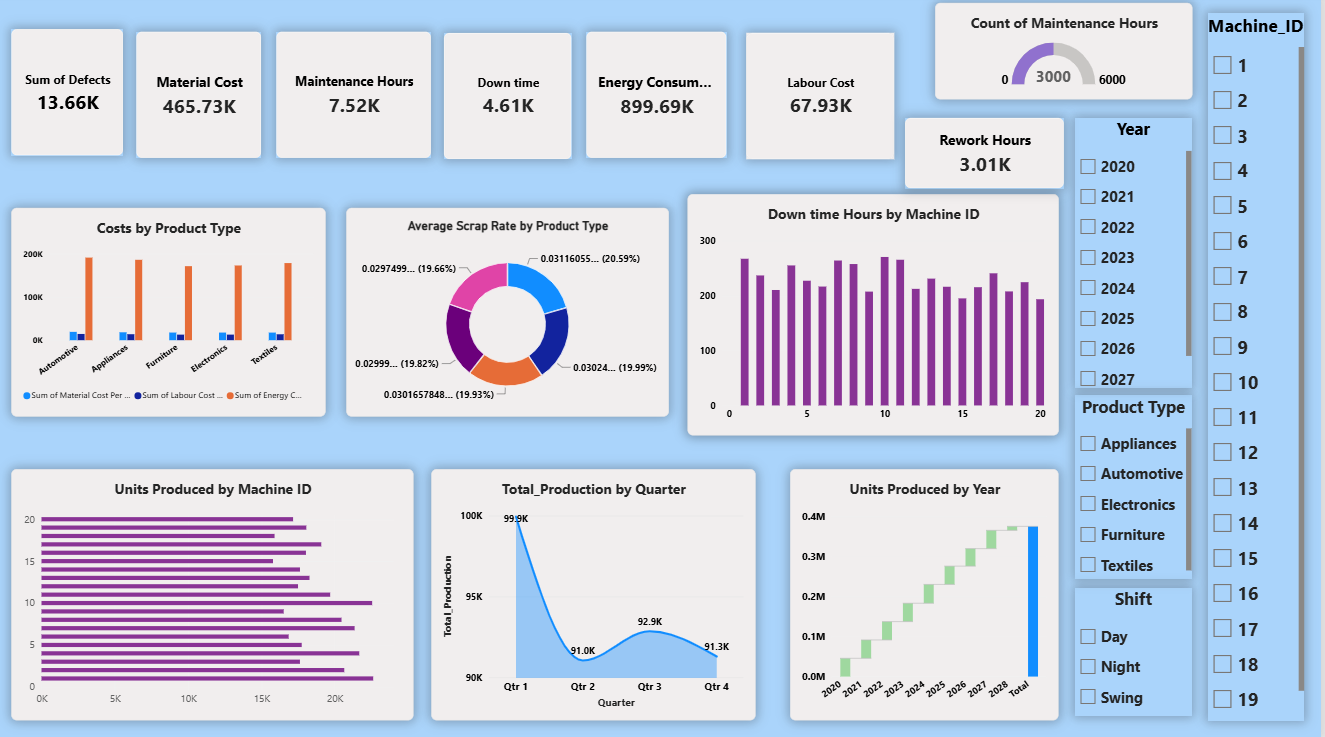

Layout of this report page (visuals, bound fields, positions):
{"tool":"powerbi","page":{"name":"Page 1","canvas":[1920,1080],"ordinal":0},"visuals":[{"type":"clusteredColumnChart","title":"Costs by Product Type","fields":{"Category":["Manufacturing Dataset.Product Type"],"Y":["Sum(Manufacturing Dataset.Material Cost Per Unit)","Sum(Manufacturing Dataset.Labour Cost Per Hour)","Sum(Manufacturing Dataset.Energy Consumption kWh)"]},"box":[22.6,308.7,454.9,302.6],"z":0},{"type":"columnChart","title":"Down time Hours by Machine ID","fields":{"Category":["Manufacturing Dataset.Machine ID"],"Y":["Sum(Manufacturing Dataset.Down time Hours)"]},"box":[1002.4,290.2,537.2,349.9],"z":1000},{"type":"lineChart","fields":{"Category":["Manufacturing Dataset.Date.Variation.Date Hierarchy.Quarter"],"Y":["Manufacturing Dataset.Total_Production"]},"box":[631.9,687.5,469.3,364.3],"z":2000},{"type":"slicer","title":"Shift","fields":{"Values":["Manufacturing Dataset.Shift"]},"box":[1564.3,860.4,168.8,185.2],"z":3000},{"type":"slicer","title":"Product Type","fields":{"Values":["Manufacturing Dataset.Product Type"]},"box":[1564.3,580.4,168.8,265.5],"z":4000},{"type":"cardVisual","fields":{"Data":["Sum(Manufacturing Dataset.Defects)"]},"box":[22.6,51.5,162.6,183.2],"z":5000},{"type":"cardVisual","fields":{"Data":["Sum(Manufacturing Dataset.Down time Hours)"]},"box":[650.4,55.6,185.2,183.2],"z":6000},{"type":"cardVisual","fields":{"Data":["Sum(Manufacturing Dataset.Maintenance Hours)"]},"box":[407.5,53.5,224.4,183.2],"z":7000},{"type":"cardVisual","fields":{"Data":["Sum(Manufacturing Dataset.Labour Cost Per Hour)"]},"box":[1086.8,55.6,214.1,183.2],"z":8000},{"type":"slicer","title":"Machine_ID","fields":{"Values":["Manufacturing Dataset.Machine ID"]},"box":[1755.8,26.8,140,1025],"z":9000},{"type":"clusteredBarChart","title":"Units Produced by Machine ID","fields":{"Category":["Manufacturing Dataset.Machine ID"],"Y":["Sum(Manufacturing Dataset.Units Produced)"]},"box":[22.6,687.5,582.5,364.3],"z":10000},{"type":"waterfallChart","title":"Units Produced by Year","fields":{"Category":["Manufacturing Dataset.Date.Variation.Date Hierarchy.Year"],"Y":["Sum(Manufacturing Dataset.Units Produced)"]},"box":[1150.6,687.5,389,364.3],"z":11000},{"type":"slicer","title":"Year","fields":{"Values":["Manufacturing Dataset.Date.Variation.Date Hierarchy.Year"]},"box":[1564.3,179.1,168.8,391.1],"z":12000},{"type":"cardVisual","fields":{"Data":["Sum(Manufacturing Dataset.Energy Consumption kWh)"]},"box":[856.3,53.5,203.8,183.2],"z":13000},{"type":"donutChart","title":"Average Scrap Rate by Product Type","fields":{"Category":["Manufacturing Dataset.Product Type"],"Y":["Avg(Manufacturing Dataset.Scrap Rate)"]},"box":[508.4,308.7,467.2,302.6],"z":14000},{"type":"gauge","fields":{"Y":["CountNonNull(Manufacturing Dataset.Maintenance Hours)"]},"box":[1360.6,12.3,372.6,140],"z":15000},{"type":"cardVisual","fields":{"Data":["Manufacturing Dataset.Total_Material_Cost"]},"box":[203.8,53.5,181.1,183.2],"z":16000},{"type":"cardVisual","fields":{"Data":["Sum(Manufacturing Dataset.Rework Hours)"]},"box":[1317.3,179.1,230.5,102.9],"z":17000}]}

Visuals, with their boxes in screenshot pixels (x1, y1, x2, y2), scaled from the page's 1920x1080 canvas onto the 1325x737 screenshot:
"Costs by Product Type" clusteredColumnChart: (16,211,330,417)
"Down time Hours by Machine ID" columnChart: (692,198,1062,437)
lineChart - Manufacturing Dataset.Date.Variation.Date Hierarchy.Quarter x Manufacturing Dataset.Total_Production: (436,469,760,718)
"Shift" slicer: (1080,587,1196,714)
"Product Type" slicer: (1080,396,1196,577)
cardVisual - Sum(Manufacturing Dataset.Defects): (16,35,128,160)
cardVisual - Sum(Manufacturing Dataset.Down time Hours): (449,38,577,163)
cardVisual - Sum(Manufacturing Dataset.Maintenance Hours): (281,37,436,162)
cardVisual - Sum(Manufacturing Dataset.Labour Cost Per Hour): (750,38,898,163)
"Machine_ID" slicer: (1212,18,1308,718)
"Units Produced by Machine ID" clusteredBarChart: (16,469,418,718)
"Units Produced by Year" waterfallChart: (794,469,1062,718)
"Year" slicer: (1080,122,1196,389)
cardVisual - Sum(Manufacturing Dataset.Energy Consumption kWh): (591,37,732,162)
"Average Scrap Rate by Product Type" donutChart: (351,211,673,417)
gauge - CountNonNull(Manufacturing Dataset.Maintenance Hours): (939,8,1196,104)
cardVisual - Manufacturing Dataset.Total_Material_Cost: (141,37,266,162)
cardVisual - Sum(Manufacturing Dataset.Rework Hours): (909,122,1068,192)
